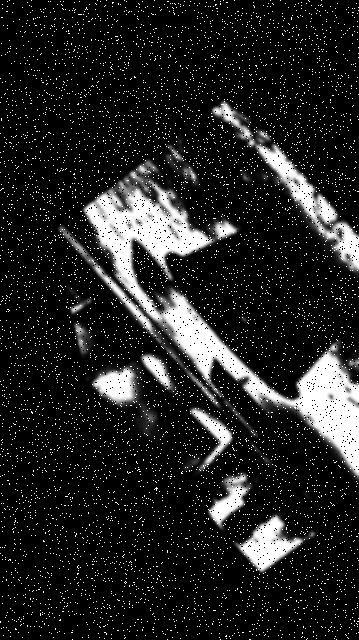pot: (166, 225, 346, 399)
